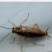cockroach: (11, 24, 48, 38)
